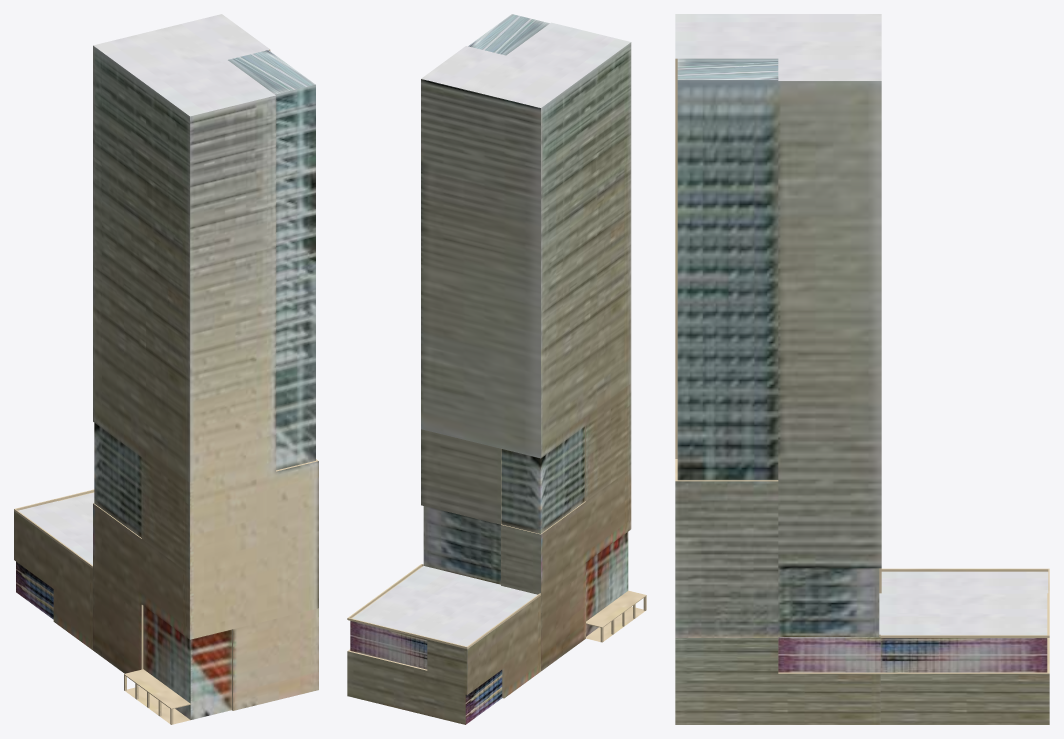
3 renders of one model, left to right at view 1: azimuth 30°, elevation 25°; view 2: azimuth 150°, elevation 25°; view 3: azimuth 270°, elevation 25°, orthographic. The views are drawn at different scales.
Parts seen in each view (by area): view 1: HN513___Vicem_tower; view 2: HN513___Vicem_tower; view 3: HN513___Vicem_tower.
Part boxes in pixels (x1=…): HN513___Vicem_tower: x1=14, y1=14, x2=318, y2=724; HN513___Vicem_tower: x1=347, y1=14, x2=646, y2=724; HN513___Vicem_tower: x1=675, y1=14, x2=1049, y2=724.
Size of the model in its own units: 37.5 by 148 by 78.
1 material, 1 textured.
